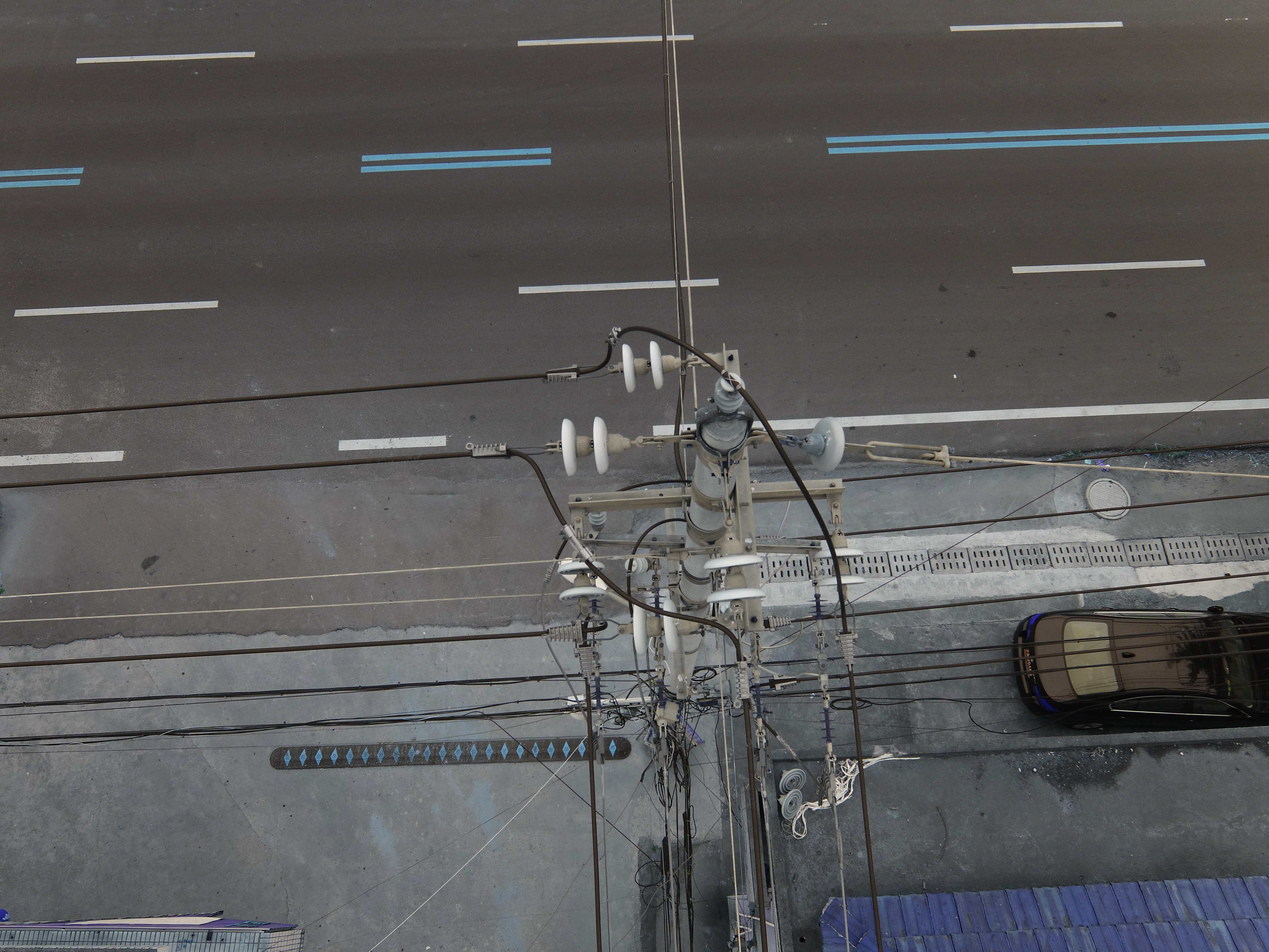severe_soiling_no_discharge_whole: (714, 371, 750, 418)
